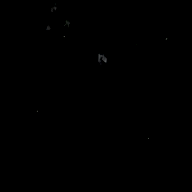v: (43, 4, 71, 31)
